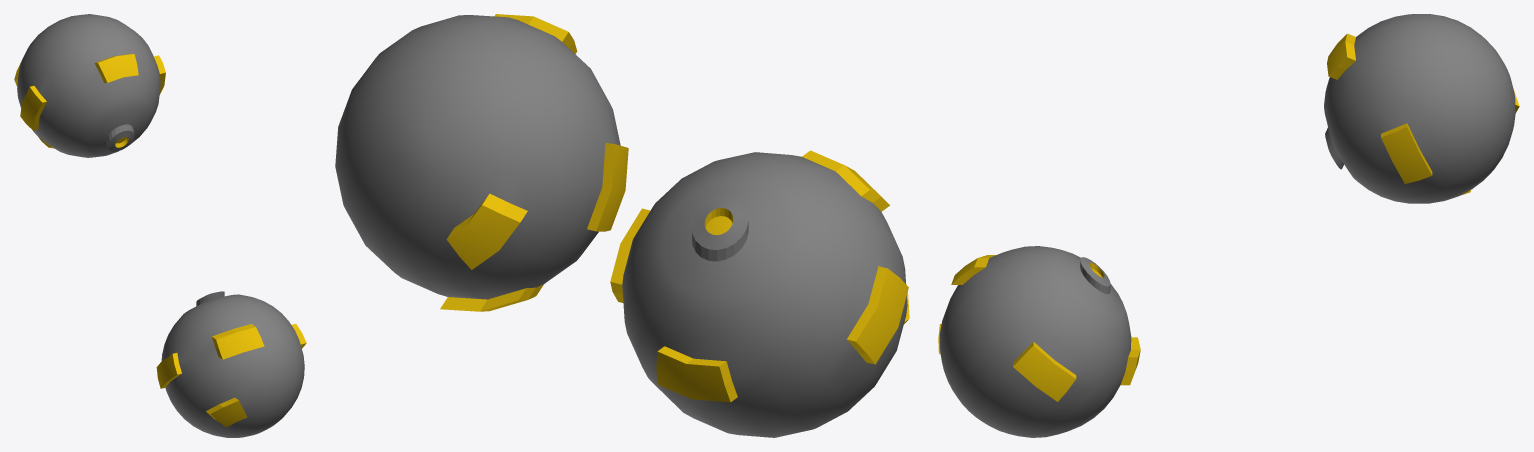
File: Electrical Beams.fbx
3 renders of one model, left to right at view 1: azimuth 30°, elevation 25°; view 2: azimuth 150°, elevation 25°; view 3: azimuth 270°, elevation 25°, orthographic. The views are drawn at different scales.
Visible parts, largest first — view 1: pSphere1, pasted__pSphere1; view 2: pasted__pSphere1, pSphere1; view 3: pSphere1, pasted__pSphere1.
Part boxes in pixels (<box>): pSphere1: <box>156,291,306,437</box>; pasted__pSphere1: <box>14,14,165,157</box>; pasted__pSphere1: <box>335,14,628,311</box>; pSphere1: <box>610,150,909,437</box>; pSphere1: <box>938,246,1140,437</box>; pasted__pSphere1: <box>1324,14,1519,203</box>.
Size of the model in its own units: 72.68 by 156 by 203.
